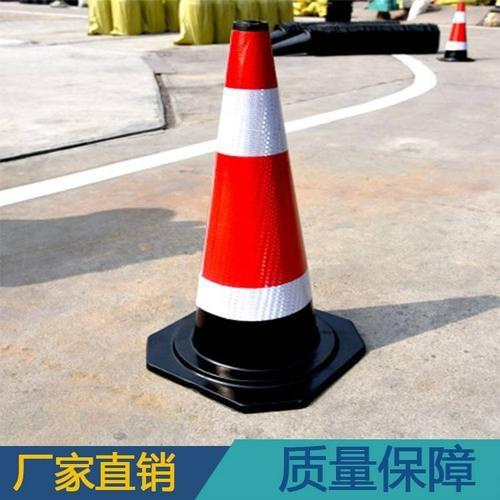cone_barrel: (169, 23, 339, 403), (442, 2, 470, 60)
